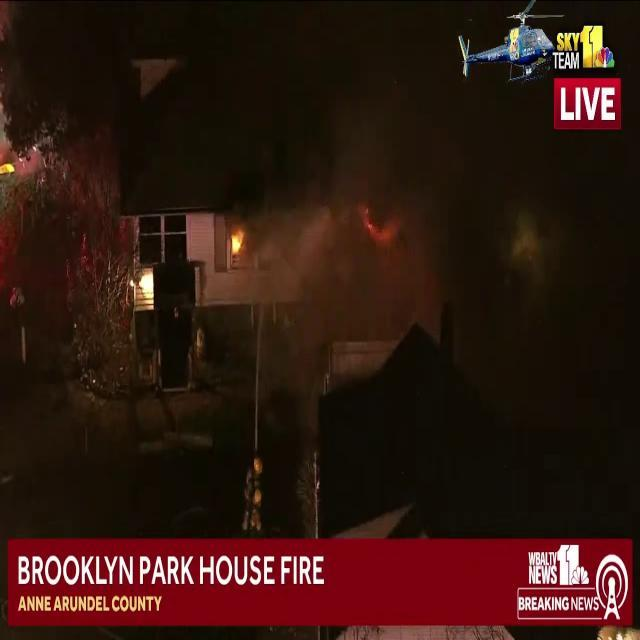Smoke: (250, 77, 570, 409)
